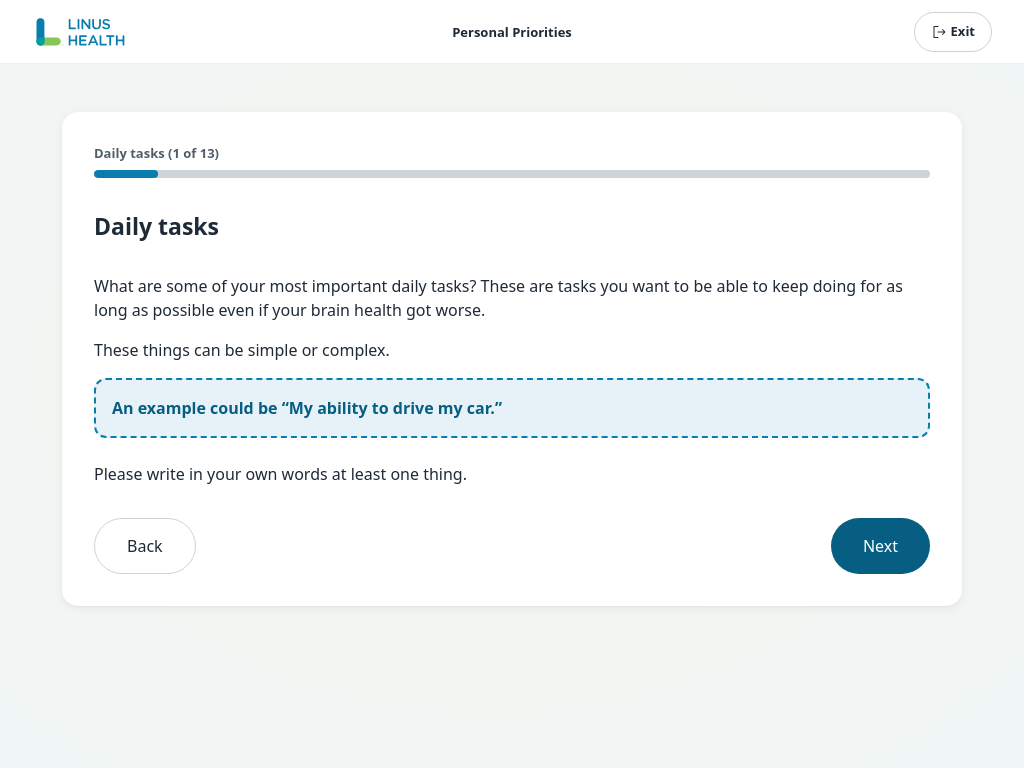
Test: PrioritiesQuestionsPage › "Add another" appends a new answer field
This screenshot has width=1024, height=768.
Click the button "Next".
click(880, 546)  # box left=831, top=518, right=930, bottom=574
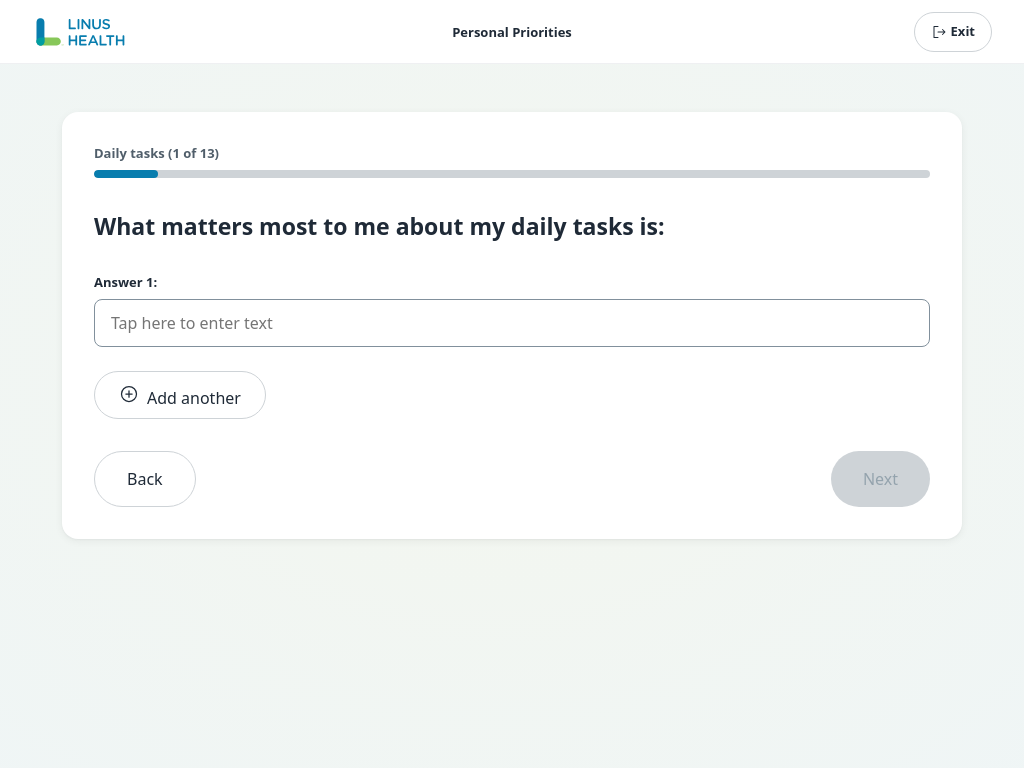
Click the button "Add another".
click(180, 395)  # box left=94, top=371, right=266, bottom=419
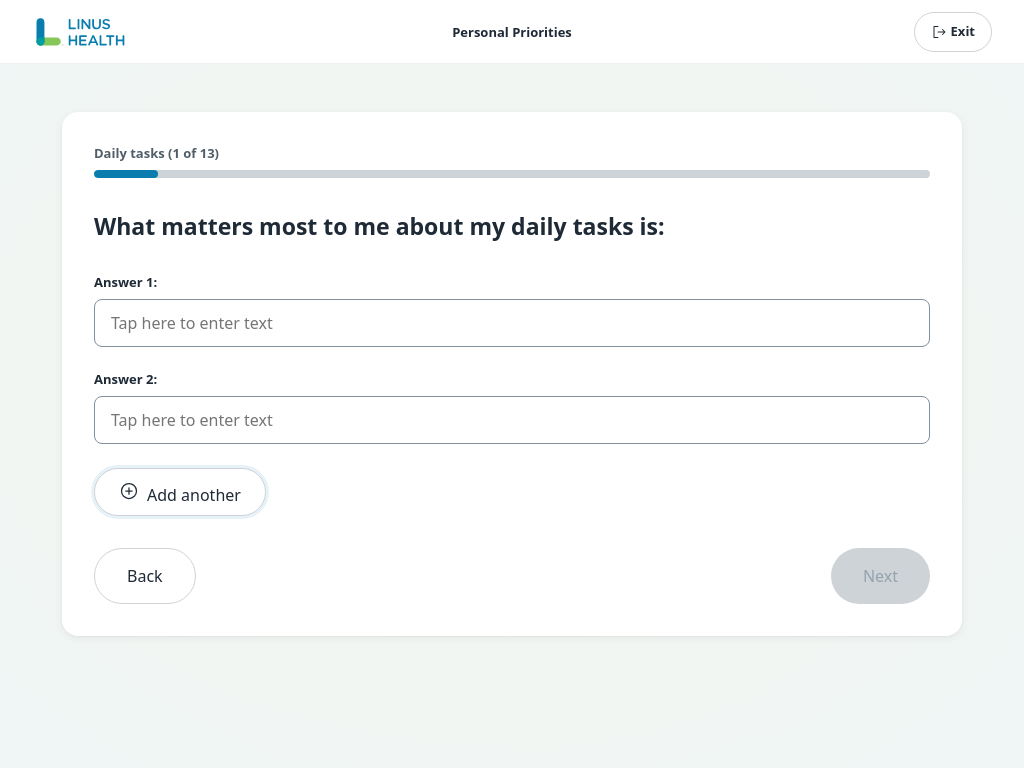
Expected: the field labelled "Answer 1:" is shown, left=95, top=300, right=929, bottom=346
Expected: the field labelled "Answer 2:" is shown, left=95, top=397, right=929, bottom=443
